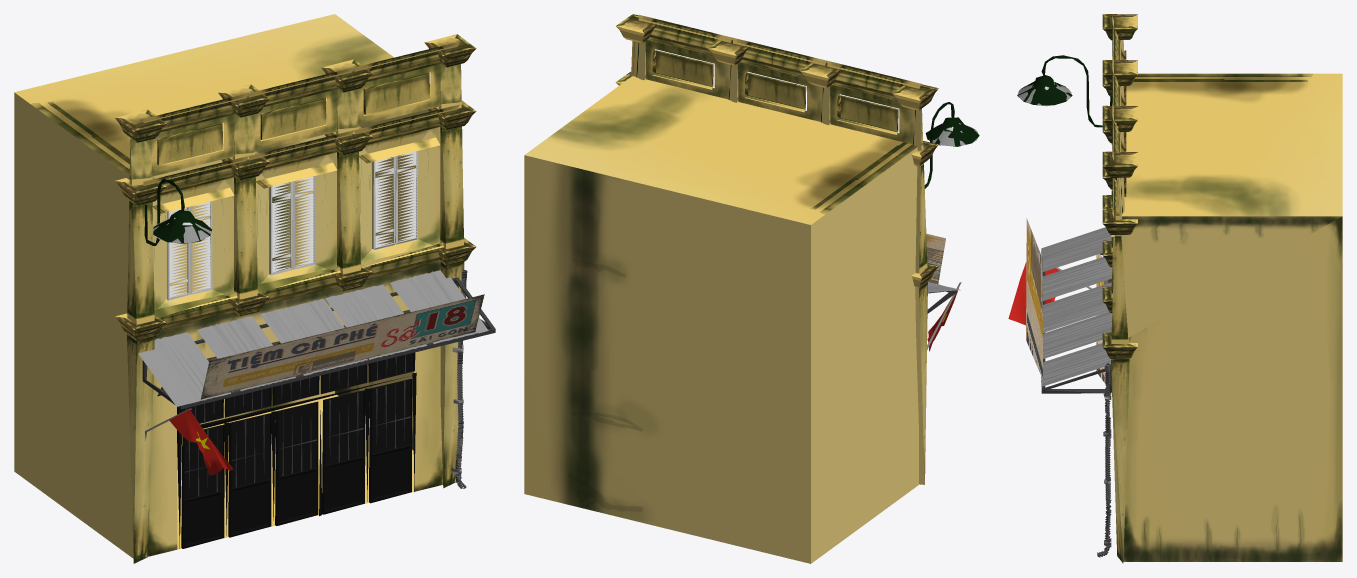
The model's file is NhaHaNoi.fbx.
3 views of the same model, side by side, from view 1: azimuth 30°, elevation 25°; view 2: azimuth 150°, elevation 25°; view 3: azimuth 270°, elevation 25° (orthographic). The views are drawn at different scales.
Parts seen in each view (by area): view 1: Cube.006; view 2: Cube.006; view 3: Cube.006.
Part boxes in pixels (x1,y1,x2,y2): Cube.006: (14, 14, 495, 563); Cube.006: (524, 14, 979, 563); Cube.006: (1008, 14, 1342, 563).
Bounding box in the file's own units: 2095 × 2536 × 1891.
